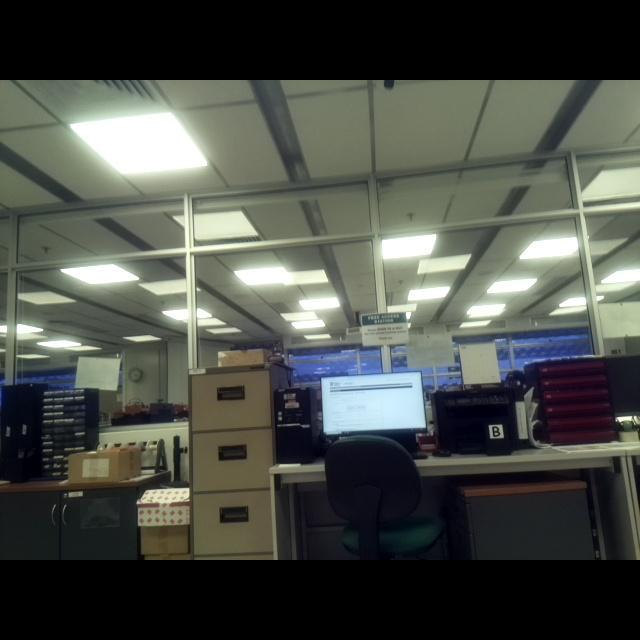B: (492, 426, 502, 438)
